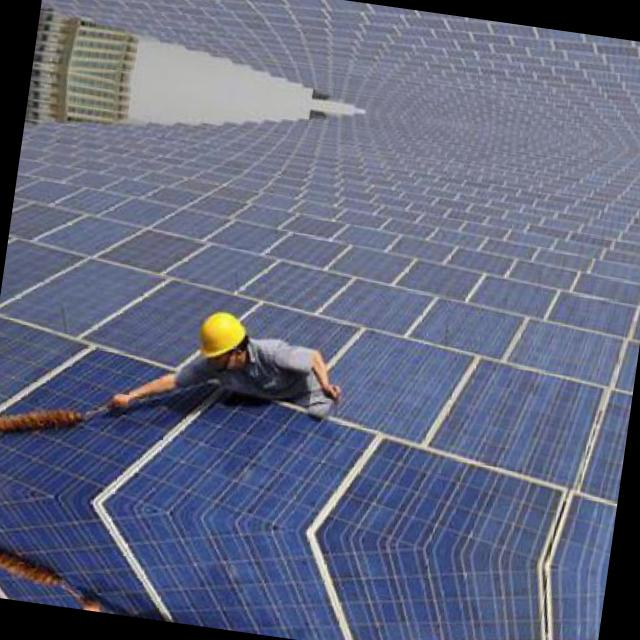helmet: (190, 300, 260, 372)
